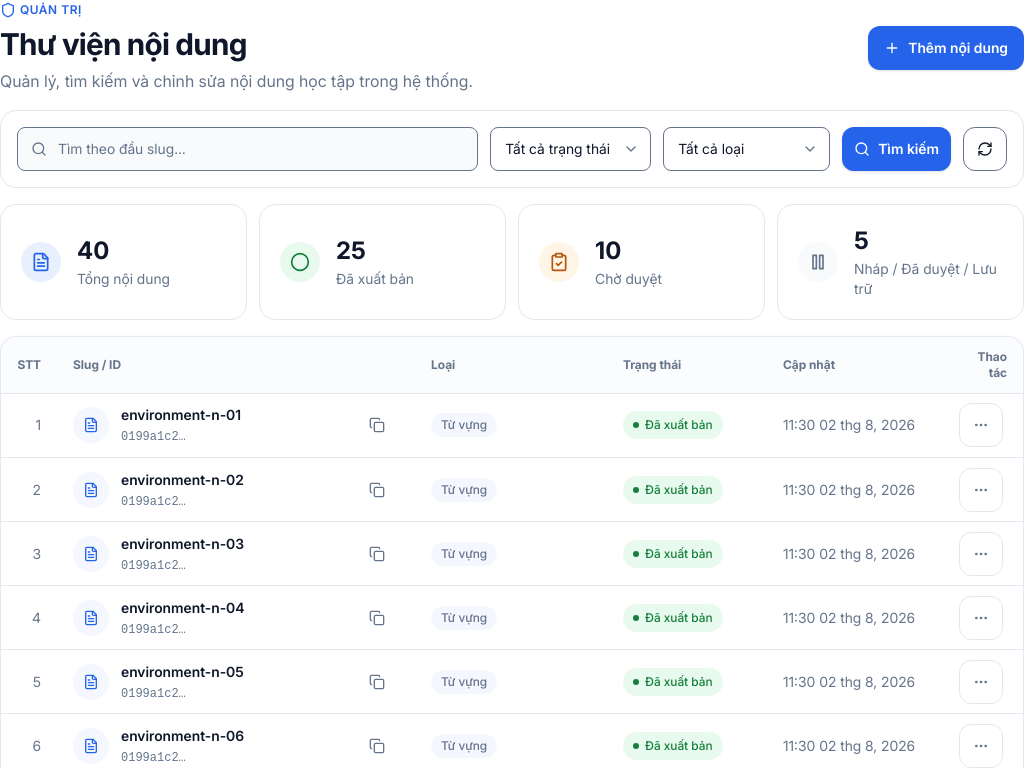
it: content library › uses Vietnamese copy for filters, summary and the create dialog
The image size is (1024, 768).
Expected: the element named "Thống kê nội dung" is shown, left=0, top=204, right=1023, bottom=320
Click the button "Thêm nội dung".
click(946, 48)  # box left=868, top=26, right=1023, bottom=70
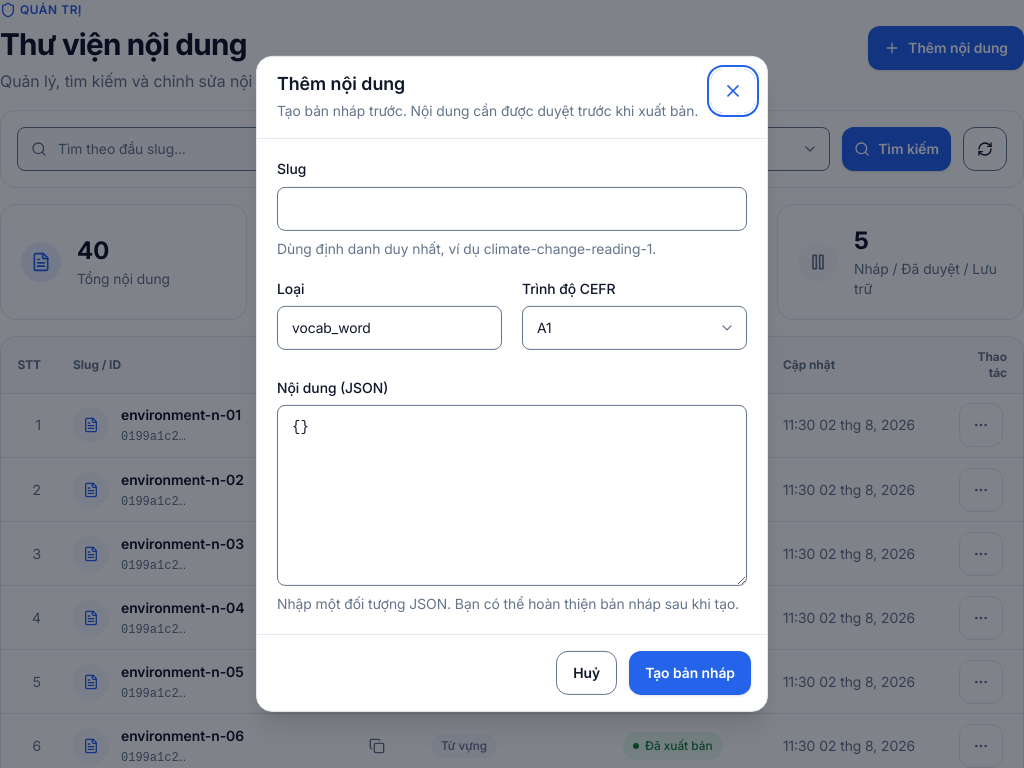
Result: the button named "Đóng" is shown at left=711, top=69, right=755, bottom=113
Result: the button "Tạo bản nháp" is shown at left=629, top=651, right=751, bottom=695
